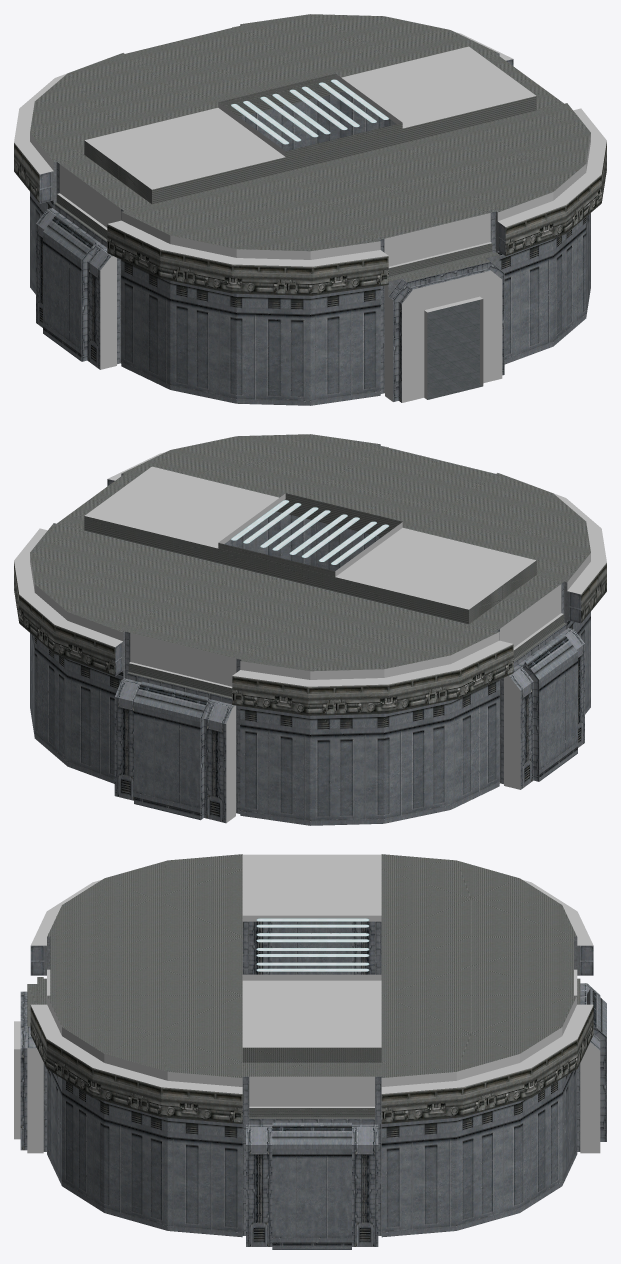
File: poi_all_impl_bunker_warren_s01_r76_smallroom76_mesh_r76.fbx
The picture shows the model from 3 angles, top to bottom: view 1: azimuth 30°, elevation 25°; view 2: azimuth 150°, elevation 25°; view 3: azimuth 270°, elevation 25°; orthographic projection. The views are drawn at different scales.
Visible parts, largest first — view 1: mesh_node; view 2: mesh_node; view 3: mesh_node.
Part boxes in pixels (box(x1,y1,x2,y2)): mesh_node: box(14, 14, 606, 405); mesh_node: box(14, 434, 606, 825); mesh_node: box(14, 854, 606, 1249).
Bounding box in the file's own units: 17.8 × 6 × 17.9.
